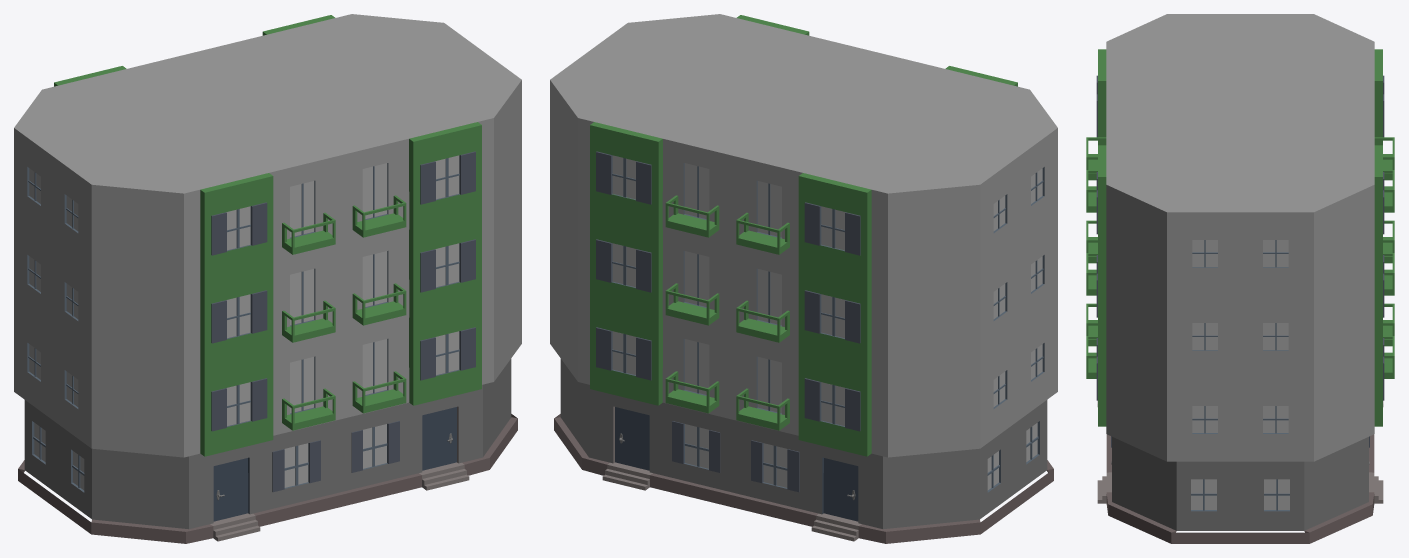
The model's file is 4 immeubles verts.fbx.
3 views of the same model, side by side, from view 1: azimuth 30°, elevation 25°; view 2: azimuth 150°, elevation 25°; view 3: azimuth 270°, elevation 25° (orthographic). The views are drawn at different scales.
Visible parts, largest first — view 1: immeuble.045, immeuble.004, immeuble.033, immeuble.021, immeuble.046, immeuble.009, immeuble.041, immeuble.047, immeuble.050, immeuble.040, immeuble.044, immeuble.038 (+7 smaller); view 2: immeuble.021, immeuble.045, immeuble.009, immeuble.022, immeuble.033, immeuble.024, immeuble.012, immeuble.005, immeuble.017, immeuble.010, immeuble.023, immeuble.011 (+19 smaller); view 3: immeuble.033, immeuble.009, immeuble.045, immeuble.004, immeuble.021, immeuble.010, immeuble.038, immeuble.014, immeuble.012, immeuble.003, immeuble.006, immeuble.018 (+3 smaller).
Part boxes in pixels (left/top/right/bottom): immeuble.045: left=49, top=99, right=344, bottom=457; immeuble.004: left=332, top=122, right=517, bottom=508; immeuble.033: left=278, top=49, right=521, bottom=384; immeuble.021: left=14, top=53, right=270, bottom=422; immeuble.046: left=58, top=421, right=334, bottom=529; immeuble.009: left=191, top=14, right=479, bottom=104; immeuble.041: left=269, top=154, right=345, bottom=435; immeuble.047: left=211, top=202, right=320, bottom=492; immeuble.050: left=66, top=196, right=308, bottom=490; immeuble.040: left=58, top=493, right=342, bottom=543; immeuble.044: left=290, top=181, right=314, bottom=413; immeuble.038: left=363, top=155, right=459, bottom=468; immeuble.021: left=740, top=105, right=1022, bottom=457; immeuble.045: left=794, top=53, right=1057, bottom=417; immeuble.009: left=550, top=54, right=800, bottom=384; immeuble.022: left=737, top=421, right=1013, bottom=529; immeuble.033: left=585, top=14, right=880, bottom=99; immeuble.024: left=798, top=173, right=871, bottom=456; immeuble.012: left=590, top=122, right=662, bottom=405; immeuble.005: left=662, top=139, right=739, bottom=420; immeuble.017: left=726, top=154, right=802, bottom=435; immeuble.010: left=560, top=359, right=736, bottom=493; immeuble.023: left=751, top=202, right=860, bottom=492; immeuble.011: left=596, top=151, right=720, bottom=472; immeuble.033: left=1106, top=110, right=1246, bottom=461; immeuble.009: left=1234, top=110, right=1374, bottom=461; immeuble.045: left=1086, top=14, right=1246, bottom=346; immeuble.004: left=1086, top=145, right=1246, bottom=543; immeuble.021: left=1234, top=14, right=1374, bottom=115; immeuble.010: left=1240, top=437, right=1369, bottom=530; immeuble.038: left=1191, top=240, right=1217, bottom=509; immeuble.014: left=1263, top=240, right=1289, bottom=509; immeuble.012: left=1374, top=145, right=1382, bottom=426; immeuble.003: left=1246, top=434, right=1374, bottom=543; immeuble.006: left=1383, top=170, right=1394, bottom=378; immeuble.018: left=1374, top=137, right=1394, bottom=346.
Size of the model in its own units: 8707 by 6804 by 5714.
